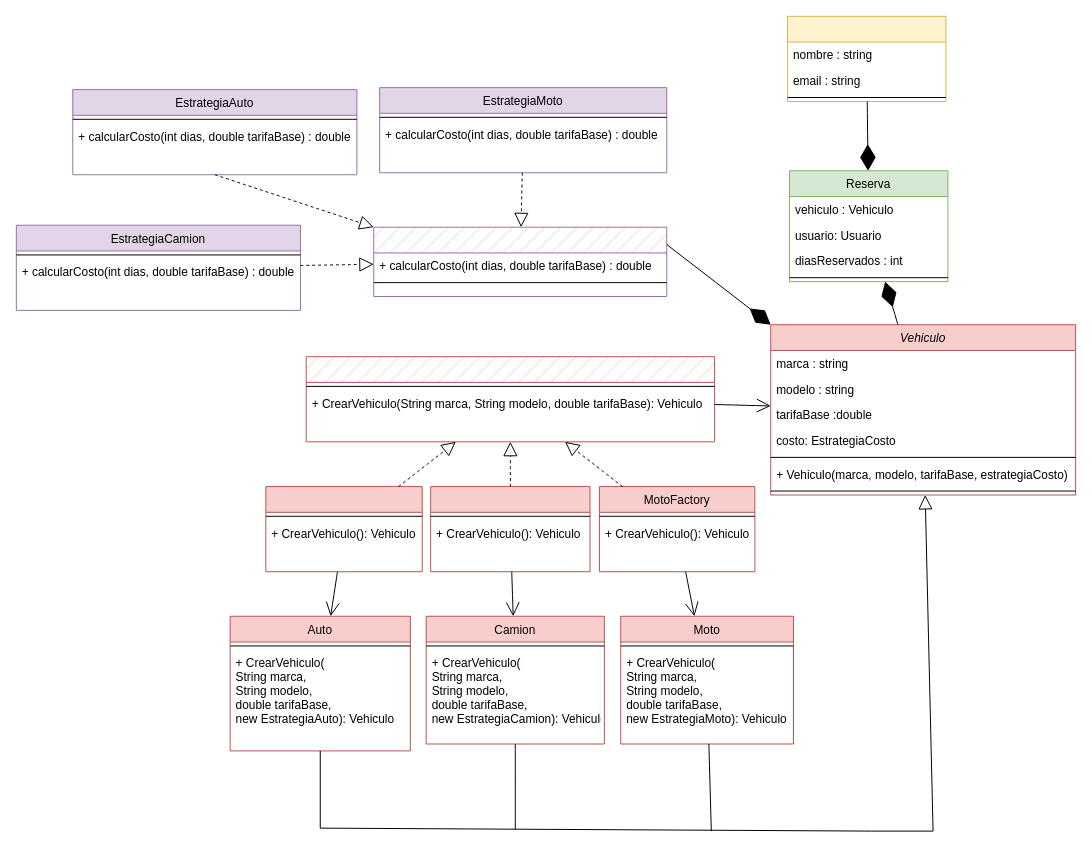
Some shapes in this 1092 by 847 pixel diagram are drawn without their labels. Here are the shapes that lost their labels. From the top down, the box of each, then its label:
(787, 15, 946, 101): Usuario
(373, 226, 667, 297): IEstrategiaCosto
(305, 356, 715, 442): IVehiculoFactory
(265, 486, 422, 572): AutoFactory
(430, 486, 590, 572): CamionFactory
